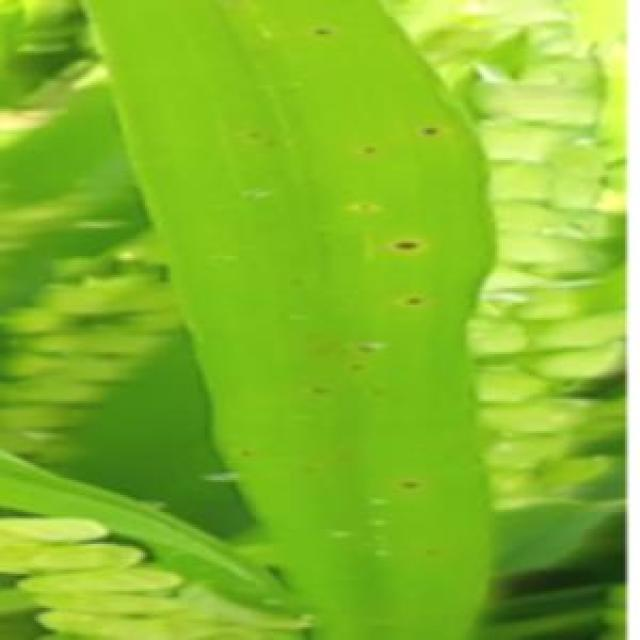Brown_Spot: (341, 188, 384, 218), (410, 538, 448, 570), (384, 228, 427, 256), (299, 15, 339, 40), (392, 284, 429, 309), (352, 134, 386, 160), (301, 373, 333, 399), (412, 115, 446, 139), (360, 378, 392, 403), (392, 469, 424, 493), (348, 333, 378, 358), (233, 435, 258, 463), (330, 444, 360, 467), (282, 269, 309, 292), (341, 350, 365, 375), (256, 132, 284, 150), (245, 38, 267, 60), (297, 459, 320, 480), (294, 170, 320, 188), (239, 124, 262, 143), (298, 160, 316, 175)
